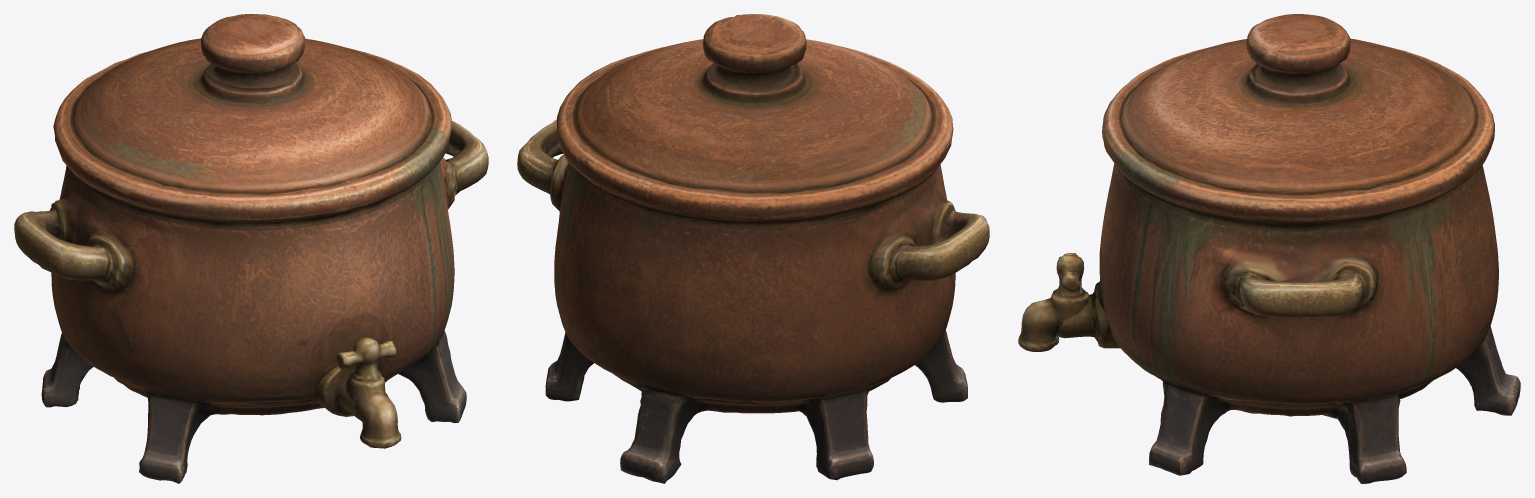
File: Furn_CopperBoiler.fbx
The picture shows the model from 3 angles, left to right: view 1: azimuth 30°, elevation 25°; view 2: azimuth 150°, elevation 25°; view 3: azimuth 270°, elevation 25°; orthographic projection.
Parts seen in each view (by area): view 1: texture_mapping; view 2: texture_mapping; view 3: texture_mapping.
Part boxes in pixels (x1,y1,x2,y2): texture_mapping: (14, 14, 488, 483); texture_mapping: (517, 14, 989, 483); texture_mapping: (1018, 14, 1520, 483).
Size of the model in its own units: 1 by 0.9923 by 0.8132.
1 material, 1 textured.
